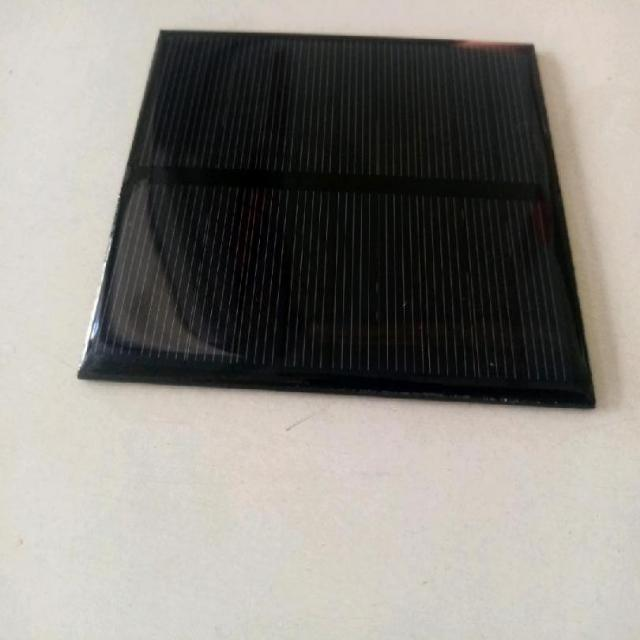Normal Solar Panel: (78, 32, 595, 408)
